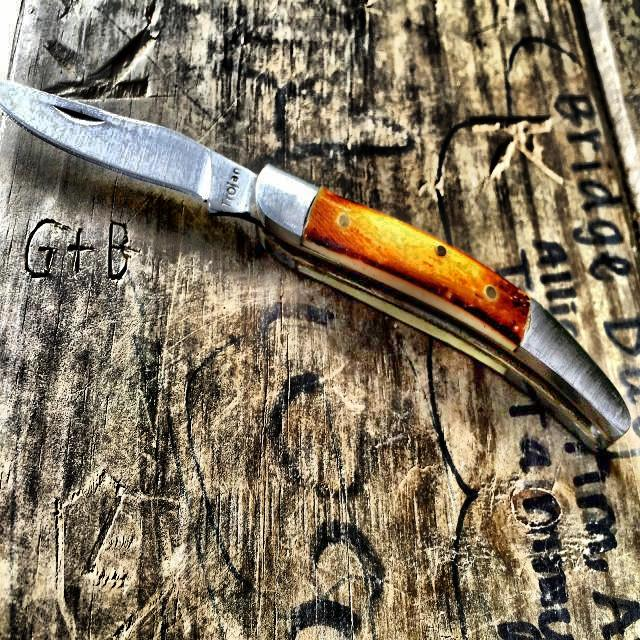knife: (3, 64, 640, 460)
